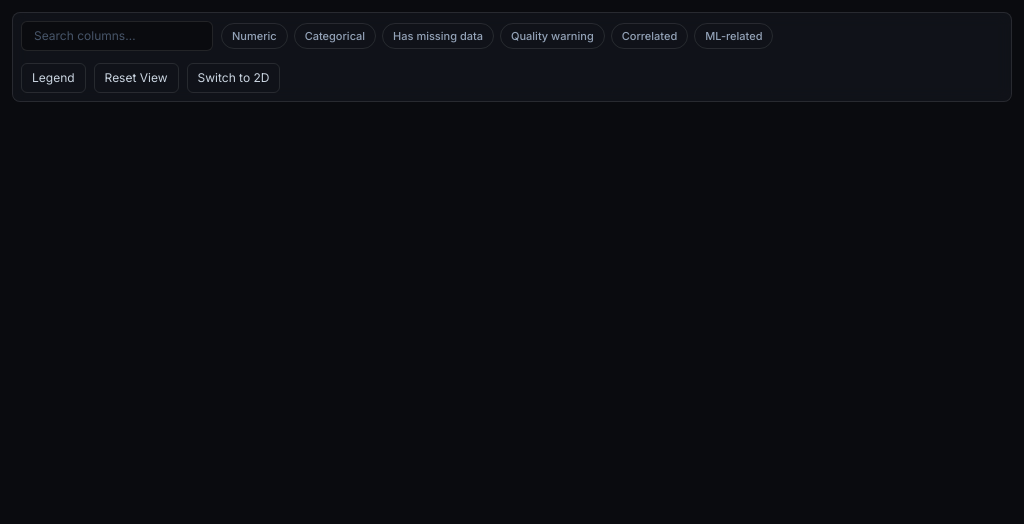
Test: UniverseHUD › toggles the legend popover
The width and height of the screenshot is (1024, 524).
Expected: the text "Node types" is not shown
Step 1. Click the button "Legend" → (53, 78), box [21,63,86,93]
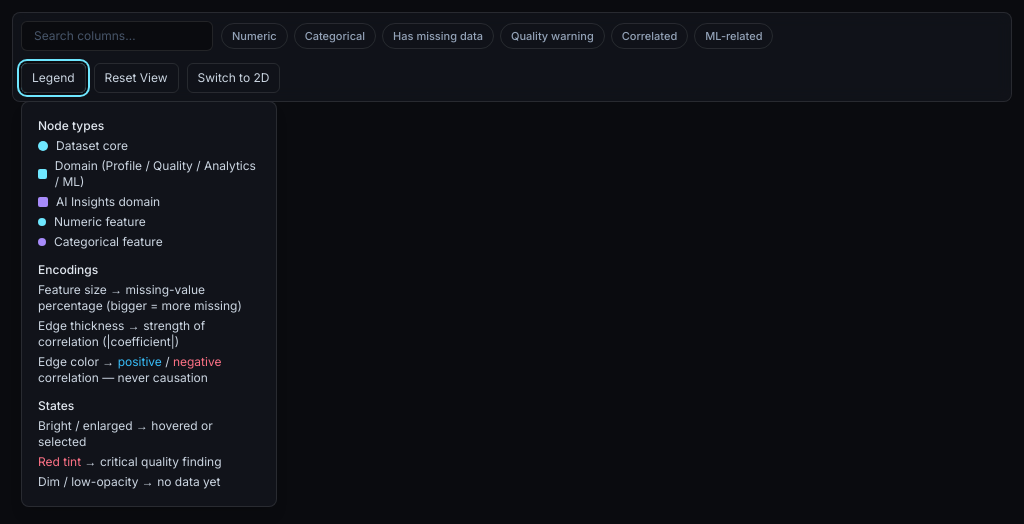
Expected: the text "Node types" is shown, [38,118,104,133]
